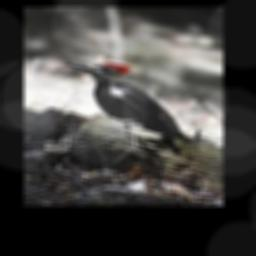Woodpecker: (66, 61, 192, 153)
